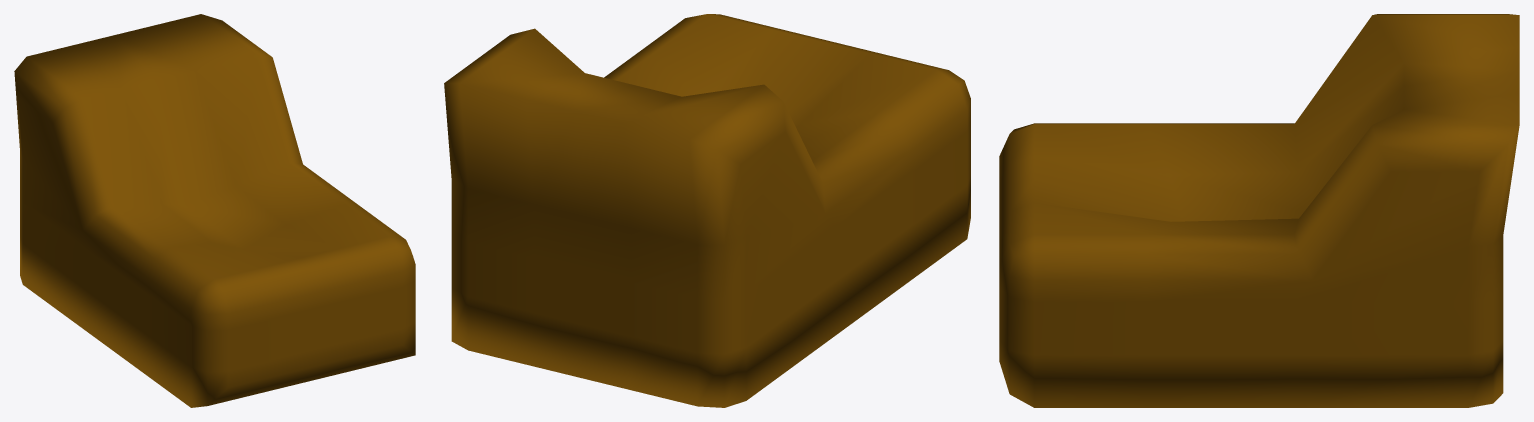
File: beanpack2.fbx
3 views of the same model, side by side, from view 1: azimuth 30°, elevation 25°; view 2: azimuth 150°, elevation 25°; view 3: azimuth 270°, elevation 25° (orthographic). The views are drawn at different scales.
Visible parts, largest first — view 1: beanpack2; view 2: beanpack2; view 3: beanpack2.
Part boxes in pixels (bbox=[...]): beanpack2: bbox=[14, 14, 415, 407]; beanpack2: bbox=[444, 14, 970, 407]; beanpack2: bbox=[999, 14, 1519, 407].
Bounding box in the file's own units: 0.00751 × 0.00673 × 0.0118.
Materials: 1 (1 with a texture image).
